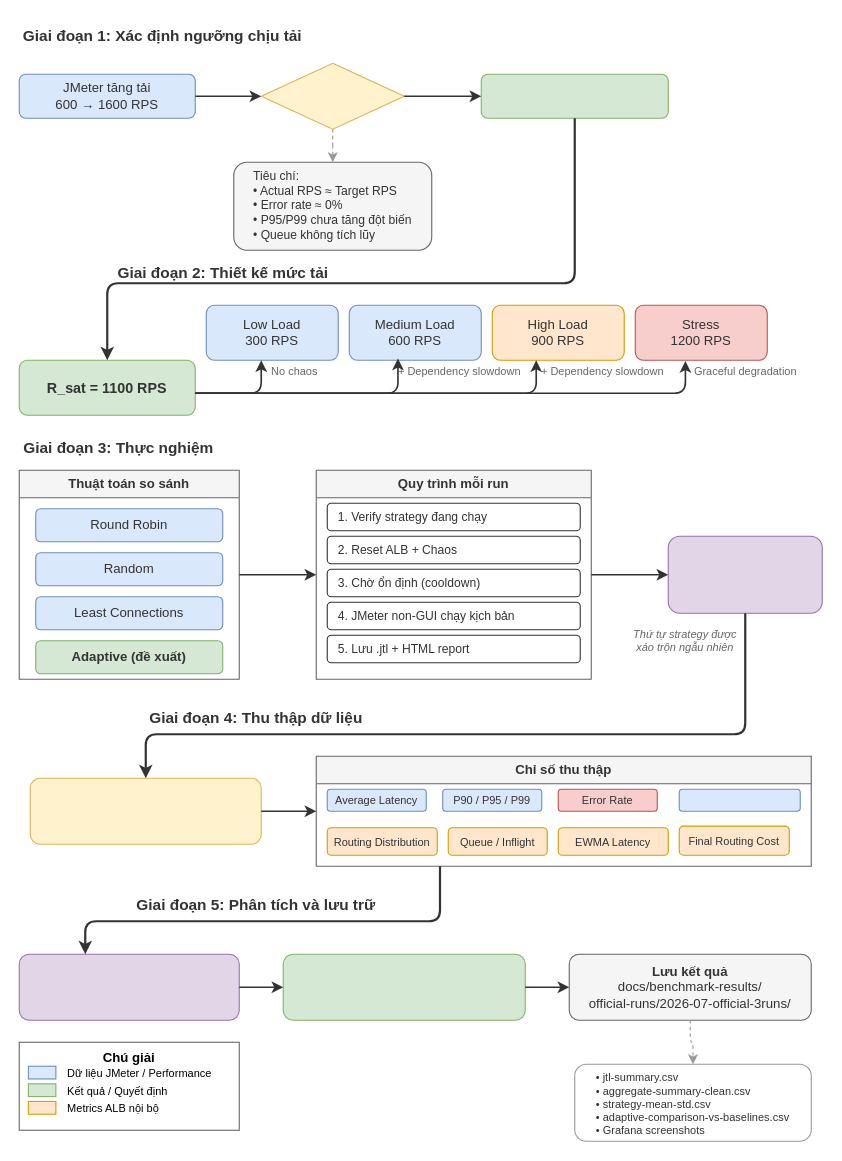
Image size: 842x1161. Some labels were removed from this diagram. The shapes that lost their labels are listed below. From the top down, each one's centre as x and y in pixels, then its label:
At pixel 332 95: "Đánh giá ổn định?".
At pixel 574 95: "Xác nhận R_sat = 1100 RPS (JMX 00b: 1000→1250)".
At pixel 744 574: "Lặp 3 lần mỗi thuật toán × mỗi mức tải".
At pixel 145 810: "Lọc dữ liệu Chỉ dùng sampler nhãn MEASURE_ (loại bỏ ramp-up, warmup, teardown)".
At pixel 739 799: "Actual Throughput".
At pixel 128 986: "summarize_jtl_results.py Tổng hợp .jtl → CSV".
At pixel 403 986: "Phân tích Mean / Std / CI qua 3 run So sánh Adaptive vs Baselines".
